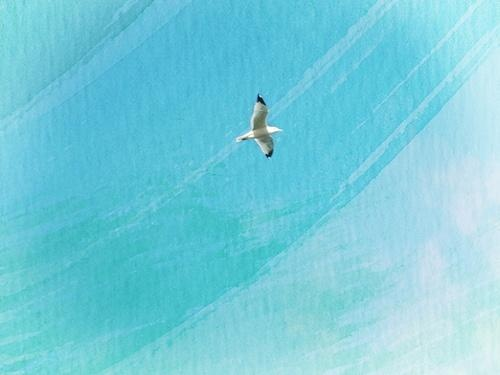bird: (235, 93, 286, 160)
